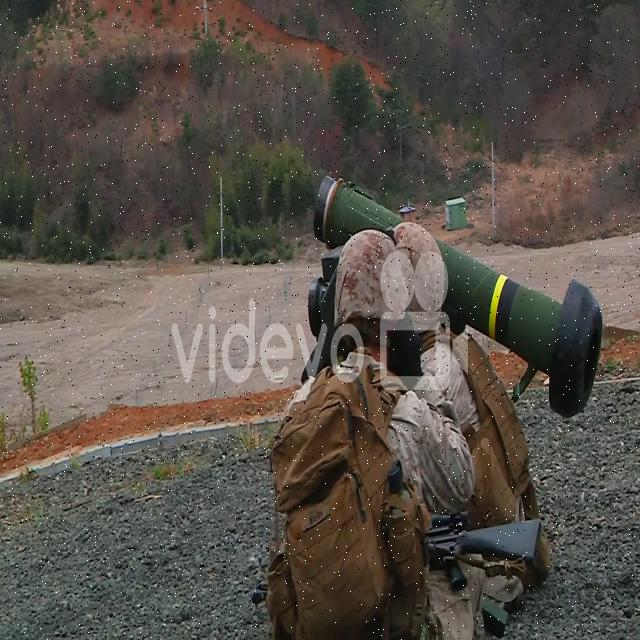bazooka: (306, 154, 608, 428)
